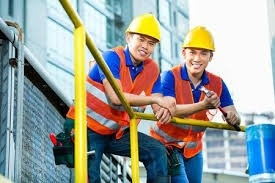helmet: (122, 11, 166, 42), (179, 23, 218, 52)
person with full safety: (163, 25, 234, 176), (91, 10, 166, 133)
safety vest: (85, 52, 159, 133), (170, 64, 219, 159)
